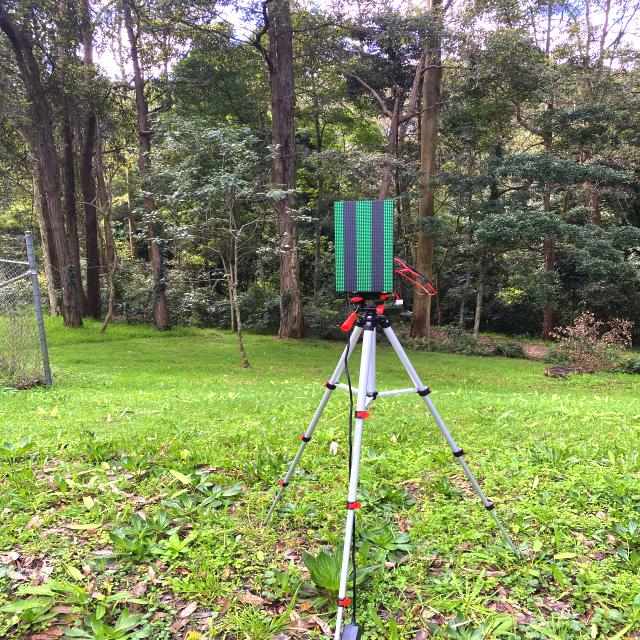matrix: (332, 198, 396, 297)
